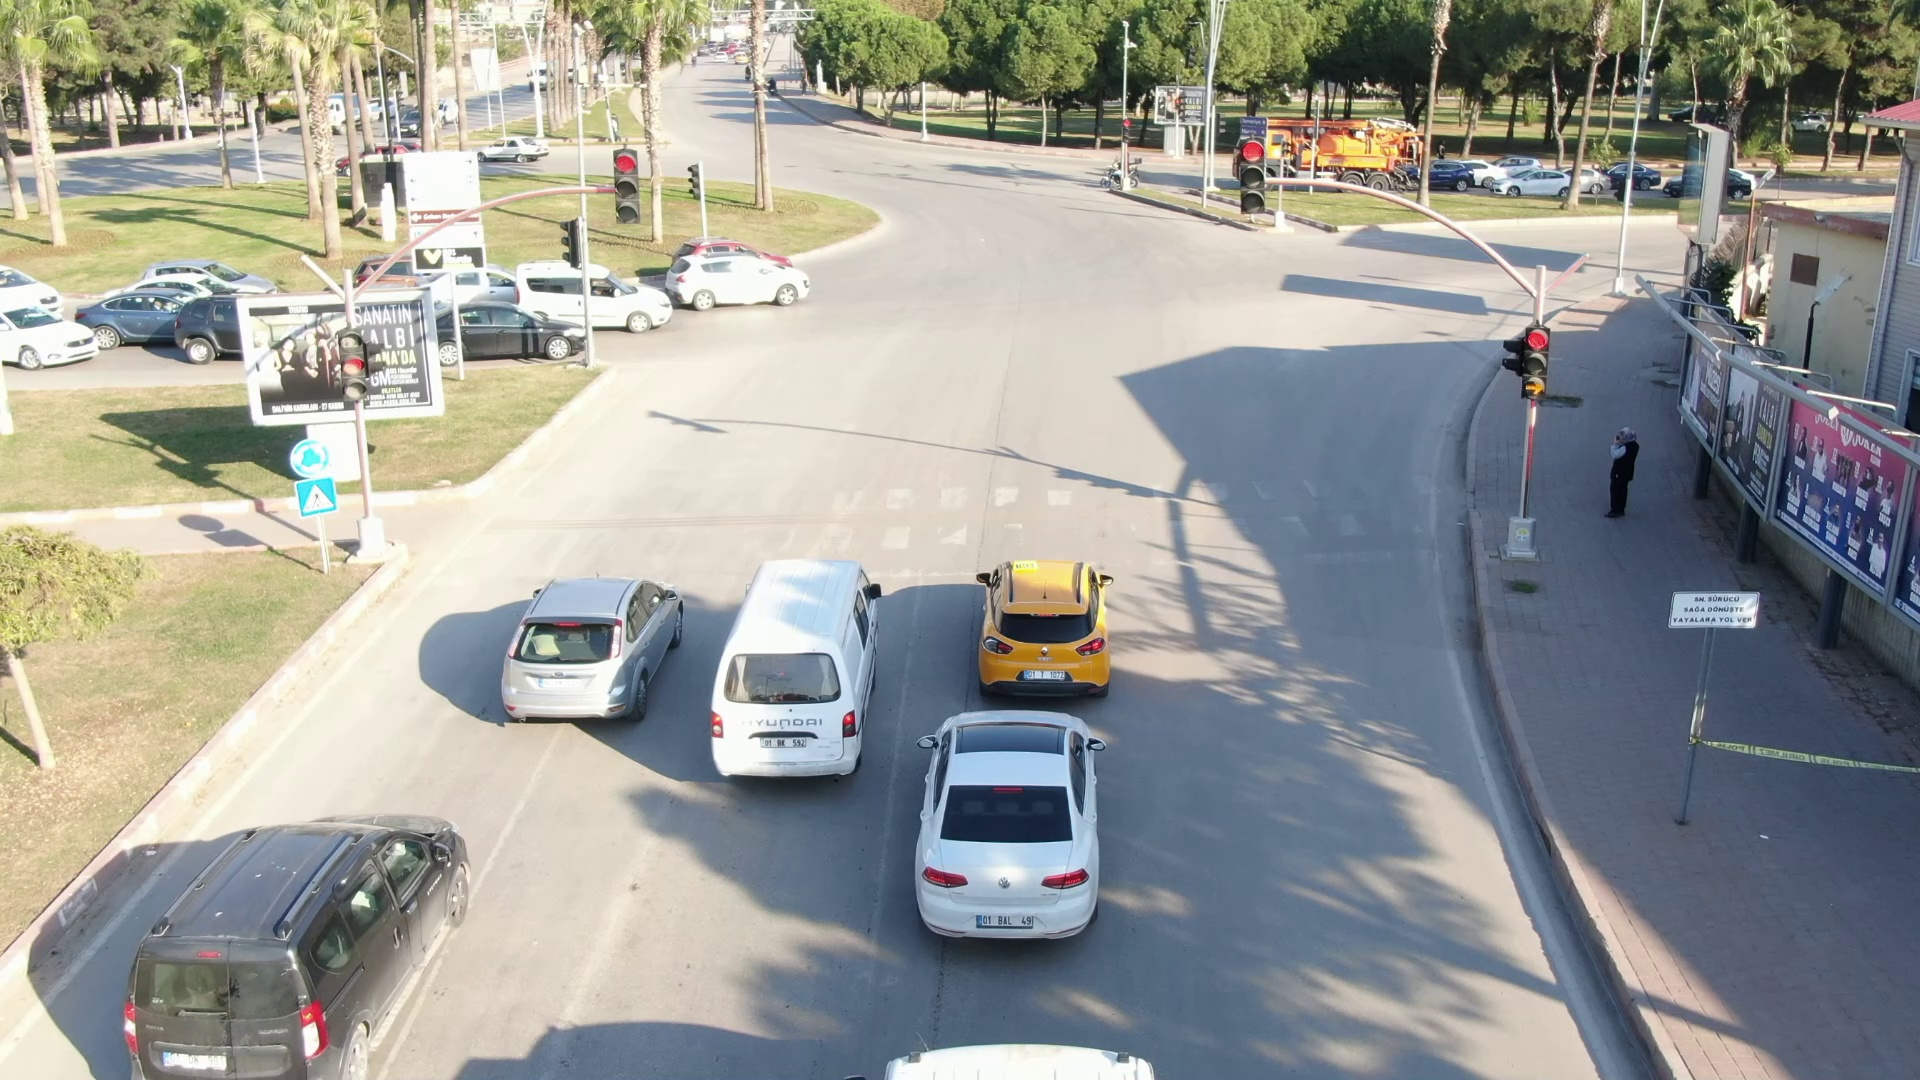car: (121, 819, 488, 1080), (900, 714, 1108, 945), (706, 563, 884, 790), (492, 580, 686, 735), (974, 555, 1121, 700), (515, 259, 672, 333), (441, 298, 594, 361), (668, 251, 812, 317)
person: (1602, 429, 1639, 525)
